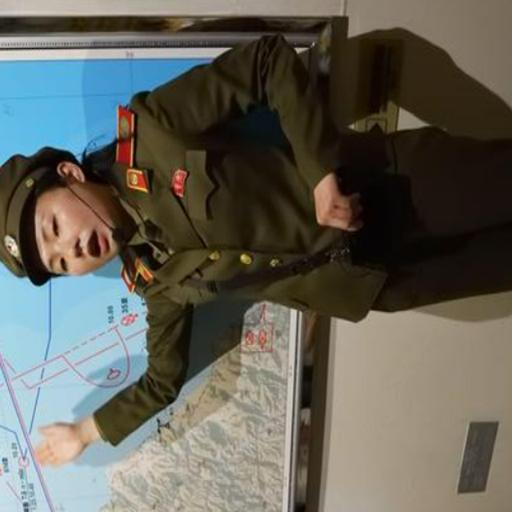north army: (0, 40, 512, 385)
